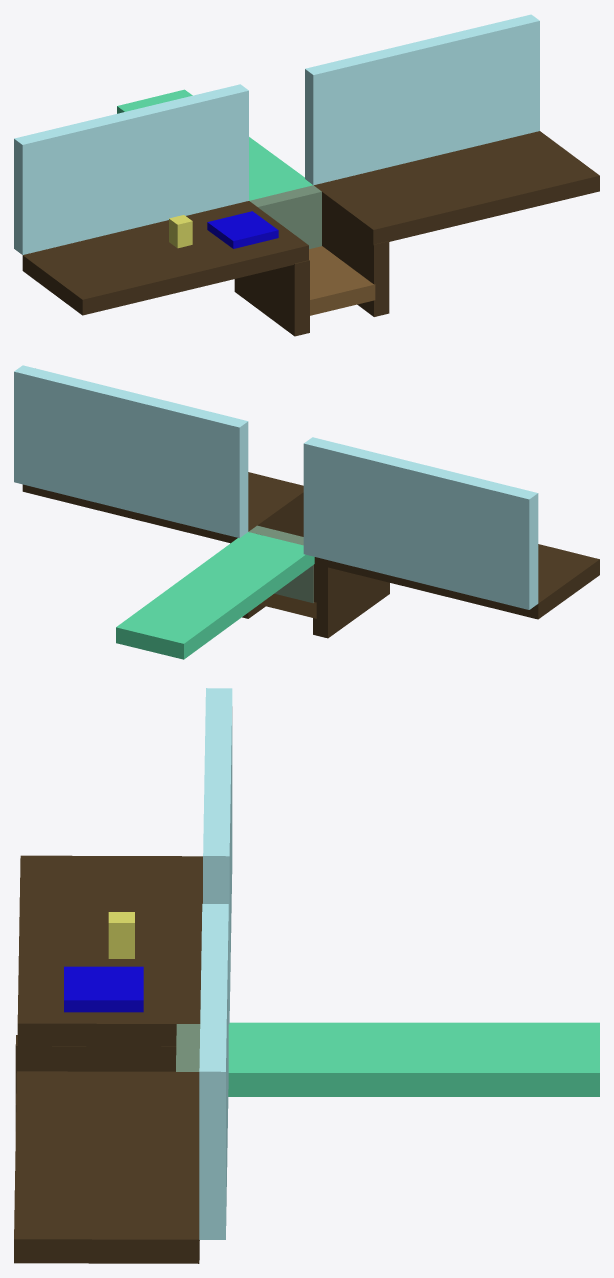
File: tempFiled4.fbx
3 renders of one model, top to bottom at view 1: azimuth 30°, elevation 25°; view 2: azimuth 150°, elevation 25°; view 3: azimuth 270°, elevation 25°, orthographic. The views are drawn at different scales.
Parts seen in each view (by area): view 1: Cube.001; view 2: Cube.001; view 3: Cube.001.
Boxes of the visible parts, box(x1,y1,x2,y2) form: Cube.001: box(14, 14, 599, 336); Cube.001: box(14, 365, 599, 659); Cube.001: box(14, 688, 599, 1263).
Bounding box in the file's own units: 6864 × 2506 × 4424.
